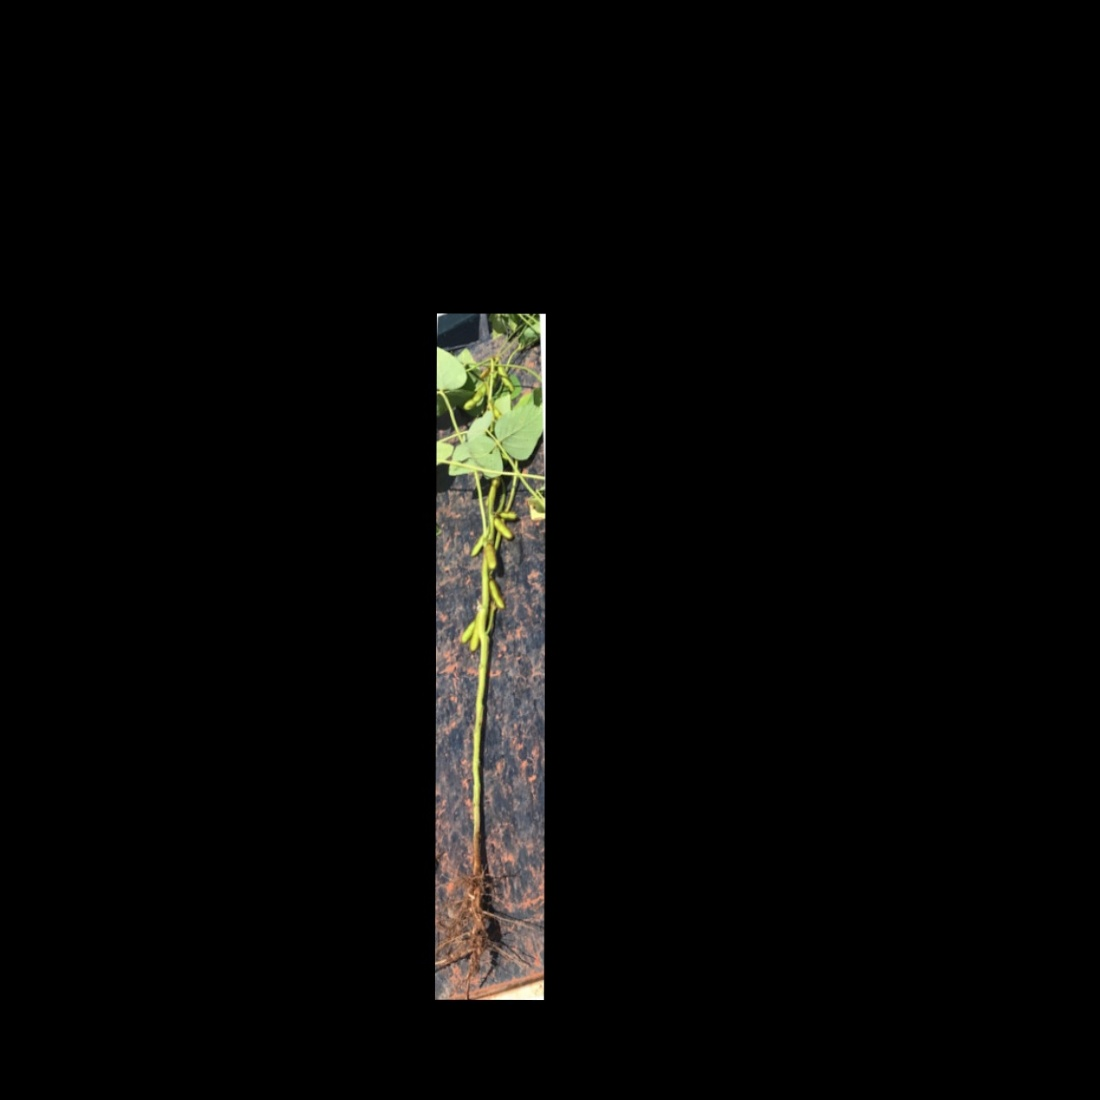pod: (466, 522, 493, 559), (488, 576, 513, 613), (461, 381, 492, 411), (466, 608, 482, 656), (490, 518, 515, 541), (483, 542, 498, 571), (494, 509, 521, 521)
soy: (438, 326, 542, 952)
